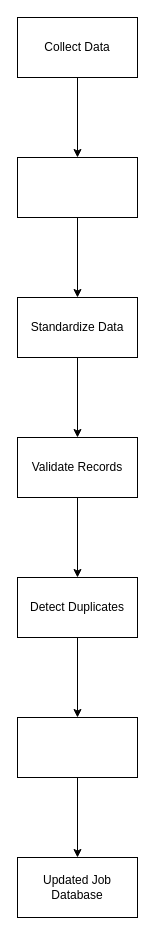
The diagram is 155 pixels wide and 935 high, and some of its shapes have lost their labels. Each missing label, with the box of its shape:
Extract Fields: (16, 156, 138, 218)
Store in Google Sheets: (16, 716, 138, 778)
